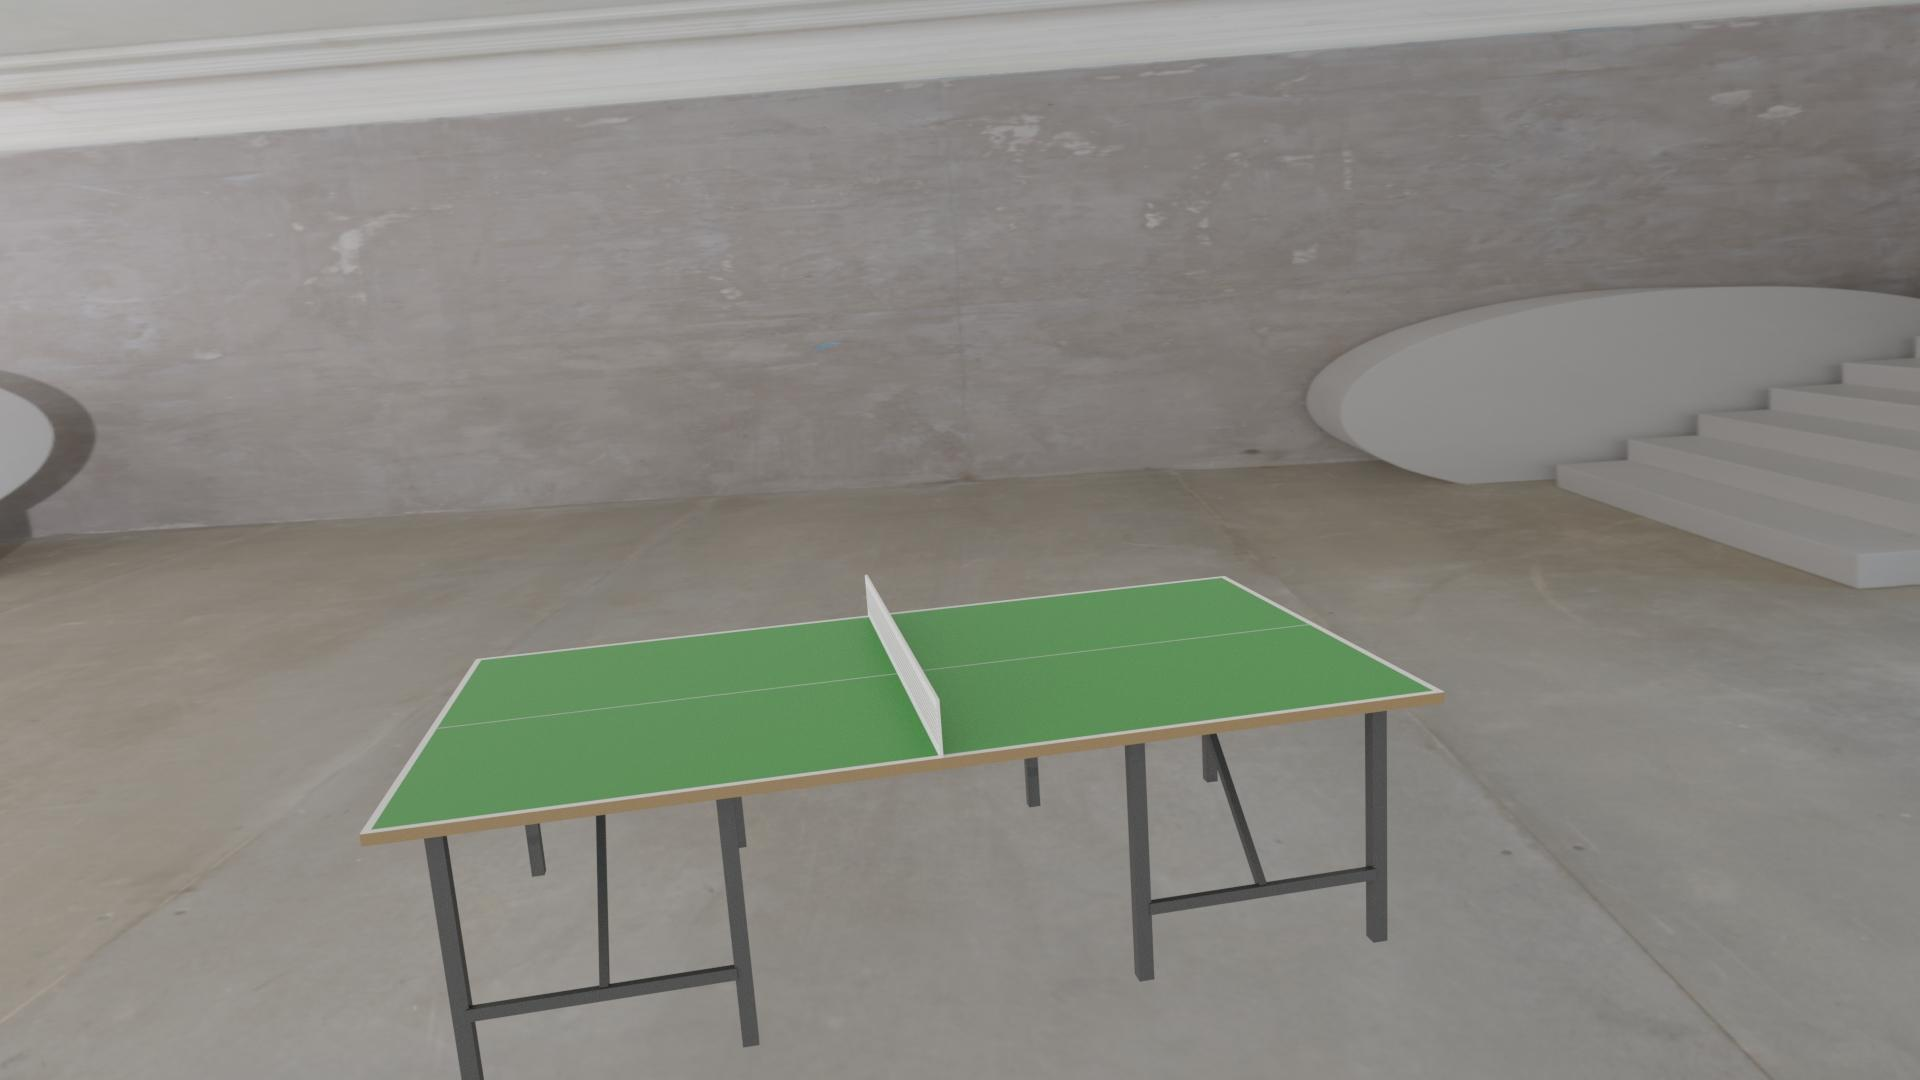table: (371, 578, 1433, 829)
